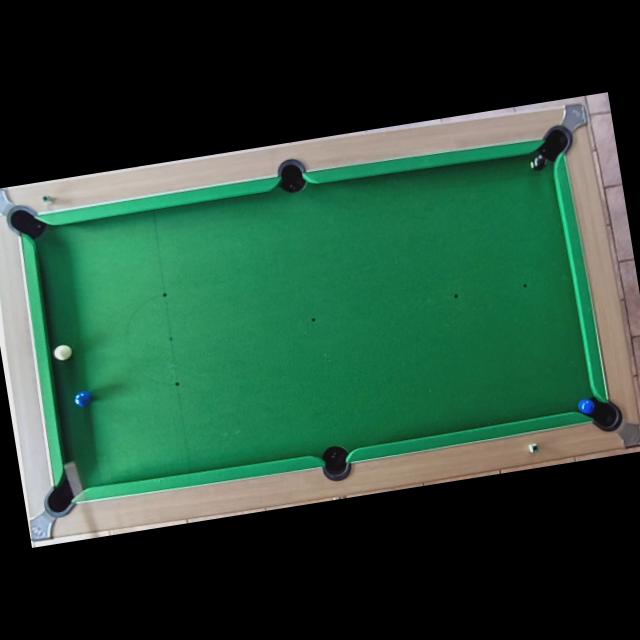Ball: (73, 389, 94, 409), (528, 152, 548, 172), (53, 342, 73, 362), (578, 398, 596, 417)
